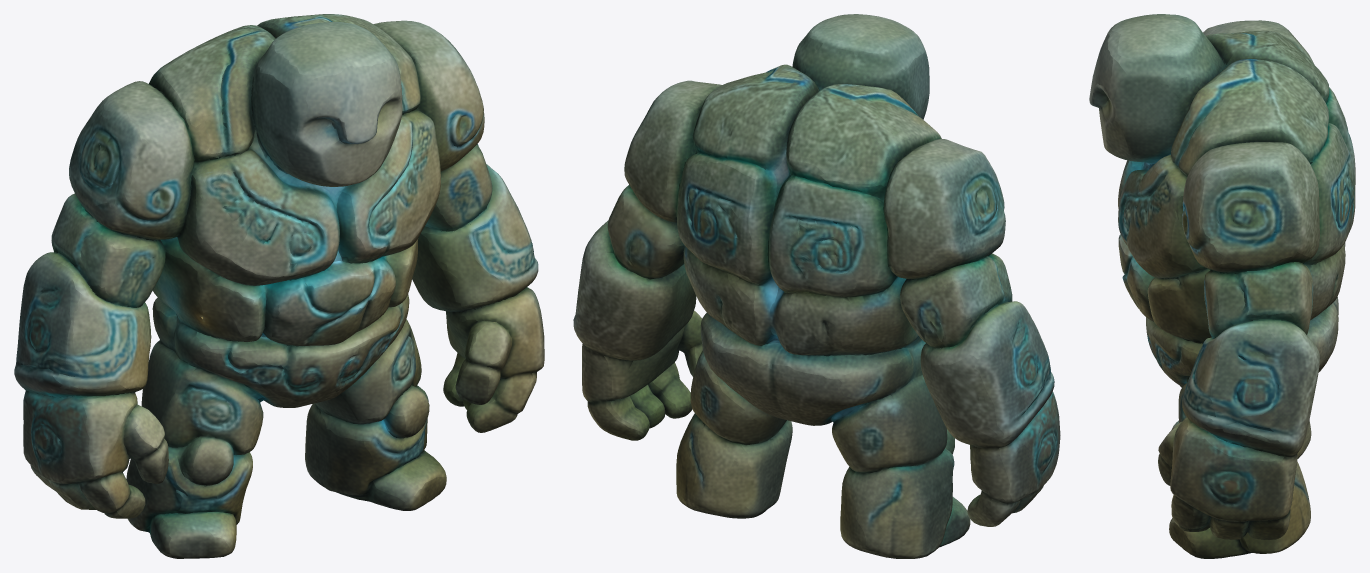
Rendered from golem.glb.
3 renders of one model, left to right at view 1: azimuth 30°, elevation 25°; view 2: azimuth 150°, elevation 25°; view 3: azimuth 270°, elevation 25°, orthographic. The views are drawn at different scales.
Parts seen in each view (by area): view 1: world; view 2: world; view 3: world.
Part boxes in pixels (x1,y1,x2,y2): world: [14, 14, 544, 558]; world: [573, 14, 1060, 558]; world: [1089, 14, 1355, 558].
Size of the model in its own units: 1.5 by 1.5 by 0.7625.
Materials: 1 (1 with a texture image).
